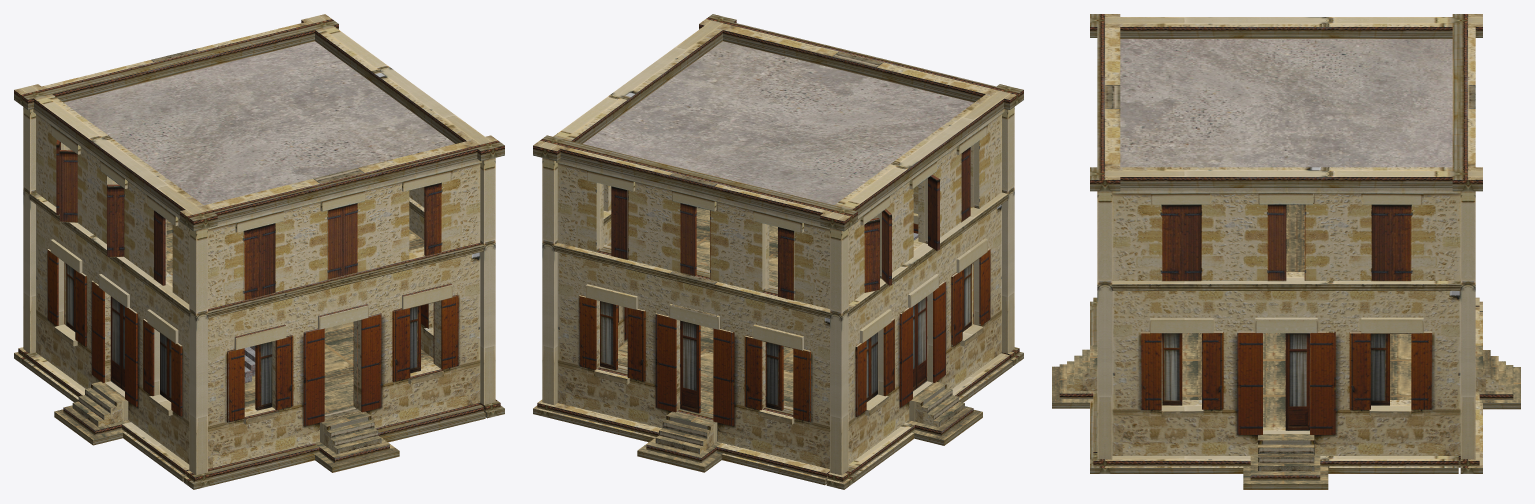
Rendered from BagBuilding8High.fbx.
3 views of the same model, side by side, from view 1: azimuth 30°, elevation 25°; view 2: azimuth 150°, elevation 25°; view 3: azimuth 270°, elevation 25° (orthographic). The views are drawn at different scales.
Parts seen in each view (by area): view 1: mainA300, roofA300, stairsfloorB300; view 2: mainA300, roofA300, stairsfloorB300; view 3: mainA300, roofA300, stairsfloorB300.
Part boxes in pixels (x1,y1,x2,y2): mainA300: (14,14,504,489); roofA300: (64,41,454,205); stairsfloorB300: (54,220,433,467); mainA300: (533,14,1023,489); roofA300: (583,41,973,205); stairsfloorB300: (607,207,982,466); mainA300: (1052,14,1520,489); roofA300: (1120,39,1452,167); stairsfloorB300: (1052,204,1520,483).
Size of the model in its own units: 21.69 by 15 by 21.69.
